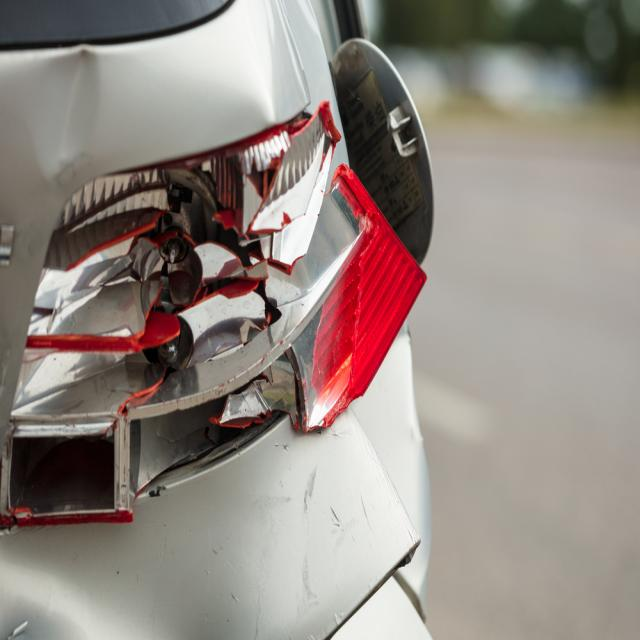dent: (25, 47, 100, 179)
lamp broken: (0, 102, 427, 531)
